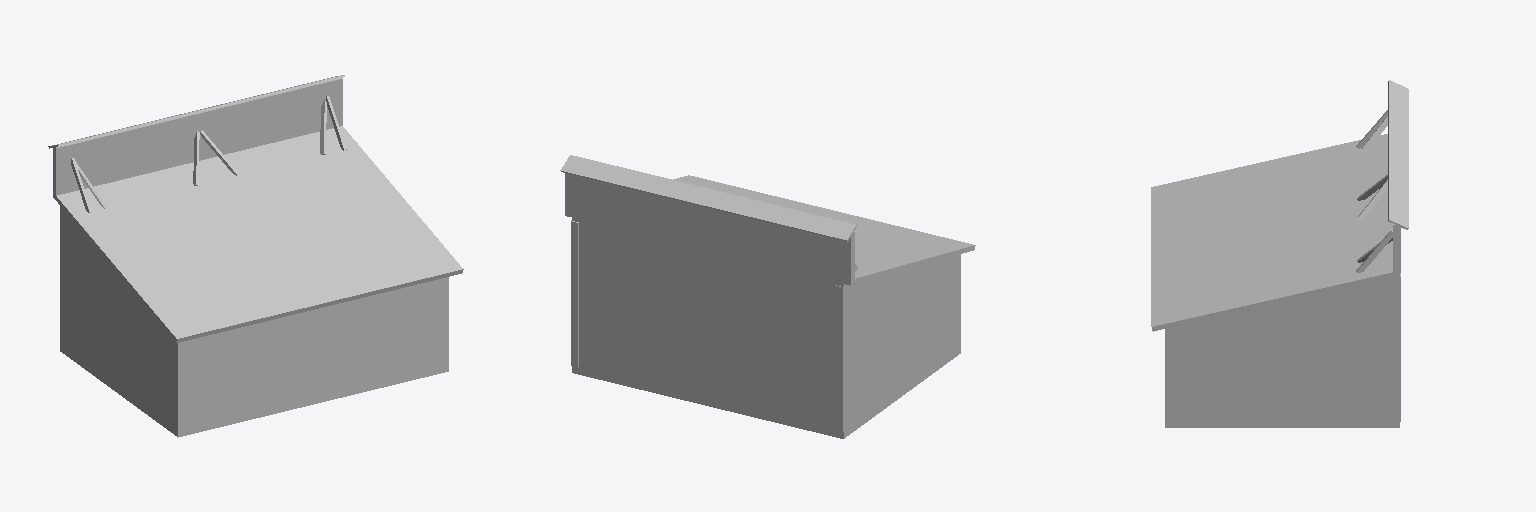
File: house1 2023.obj
3 views of the same model, side by side, from view 1: azimuth 30°, elevation 25°; view 2: azimuth 150°, elevation 25°; view 3: azimuth 270°, elevation 25° (orthographic).
Visible parts, largest first — view 1: Cube, Cube.011_Cube.012, Cube.010_Cube.011, Cube.012_Cube.013, Cube.014_Cube.015, Cube.016_Cube.017; view 2: Cube.008_Cube.009, Cube.010_Cube.011, Cube.013_Cube.014, Cube, Cube.014_Cube.015, Cube.016_Cube.017, Cube.015_Cube.016; view 3: Cube, Cube.009_Cube.010, Cube.014_Cube.015, Cube.015_Cube.016.
Boxes of the visible parts, box(x1,y1,x2,y2) form: Cube: box(56, 126, 463, 342); Cube.011_Cube.012: box(178, 277, 448, 437); Cube.010_Cube.011: box(60, 211, 177, 436); Cube.012_Cube.013: box(56, 79, 342, 195); Cube.014_Cube.015: box(48, 75, 344, 148); Cube.016_Cube.017: box(60, 206, 63, 345); Cube.008_Cube.009: box(572, 218, 843, 438); Cube.010_Cube.011: box(844, 254, 960, 438); Cube.013_Cube.014: box(565, 173, 850, 285); Cube: box(673, 175, 975, 283); Cube.014_Cube.015: box(560, 155, 856, 241); Cube.016_Cube.017: box(836, 285, 847, 431); Cube.015_Cube.016: box(571, 220, 578, 366); Cube: box(1151, 134, 1392, 331); Cube.009_Cube.010: box(1165, 277, 1399, 427); Cube.014_Cube.015: box(1388, 80, 1408, 229); Cube.015_Cube.016: box(1392, 273, 1400, 421).
Size of the model in its own units: 11.58 by 8.21 by 8.99.